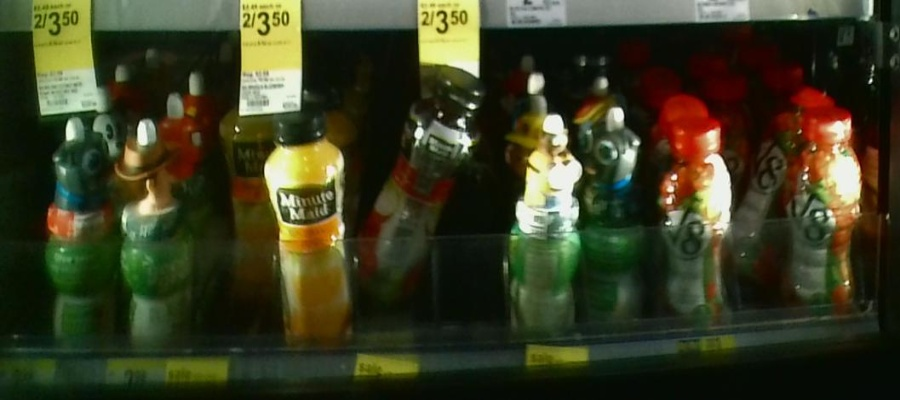bottle: (267, 100, 354, 354), (117, 109, 199, 351), (43, 113, 117, 353), (502, 112, 576, 341), (651, 120, 734, 322), (794, 111, 863, 323), (581, 100, 643, 330), (358, 117, 427, 310), (215, 83, 267, 309), (739, 123, 787, 280)
